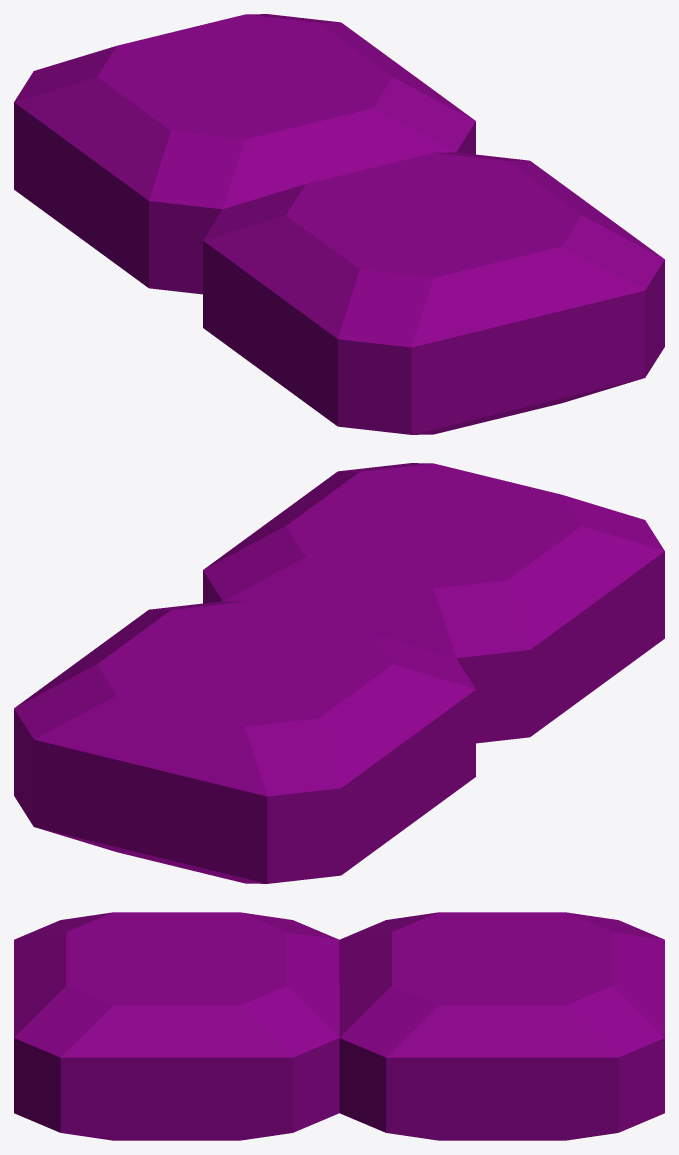
3 renders of one model, top to bottom at view 1: azimuth 30°, elevation 25°; view 2: azimuth 150°, elevation 25°; view 3: azimuth 270°, elevation 25°, orthographic. The views are drawn at different scales.
Parts seen in each view (by area): view 1: Cube.022; view 2: Cube.022; view 3: Cube.022.
Boxes of the visible parts, <box> form: Cube.022: <box>14,14,664,434</box>; Cube.022: <box>14,463,664,883</box>; Cube.022: <box>14,912,664,1140</box>.
Bounding box in the file's own units: 0.5 × 0.2288 × 1.
1 material, 1 textured.
